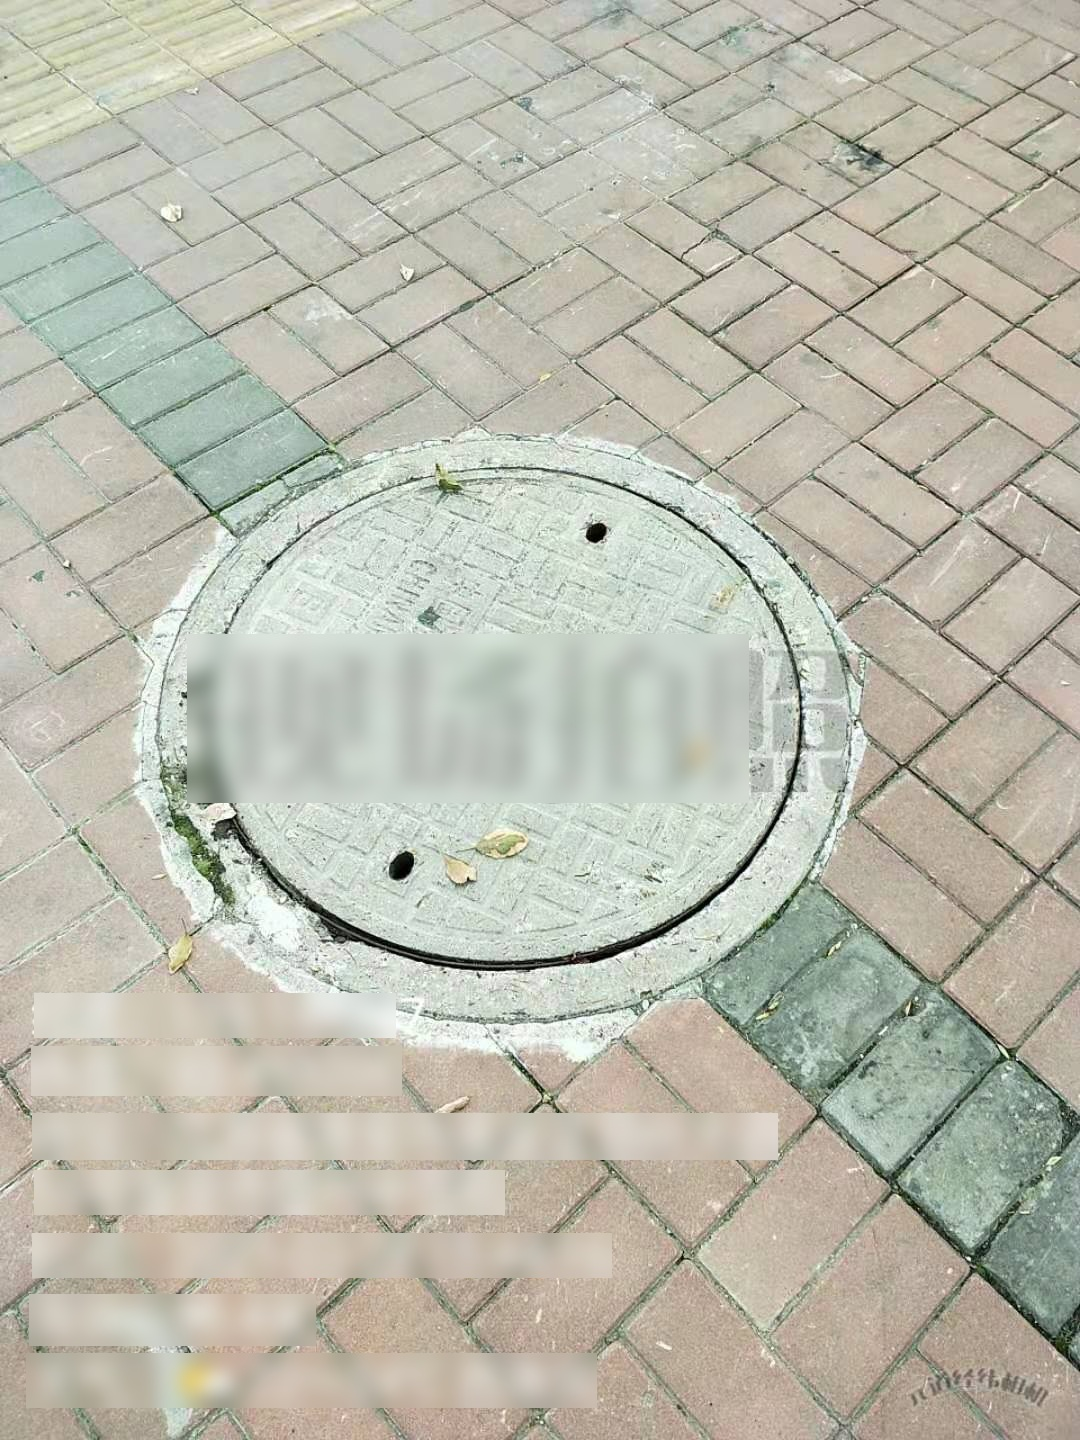well: (146, 435, 863, 1030)
